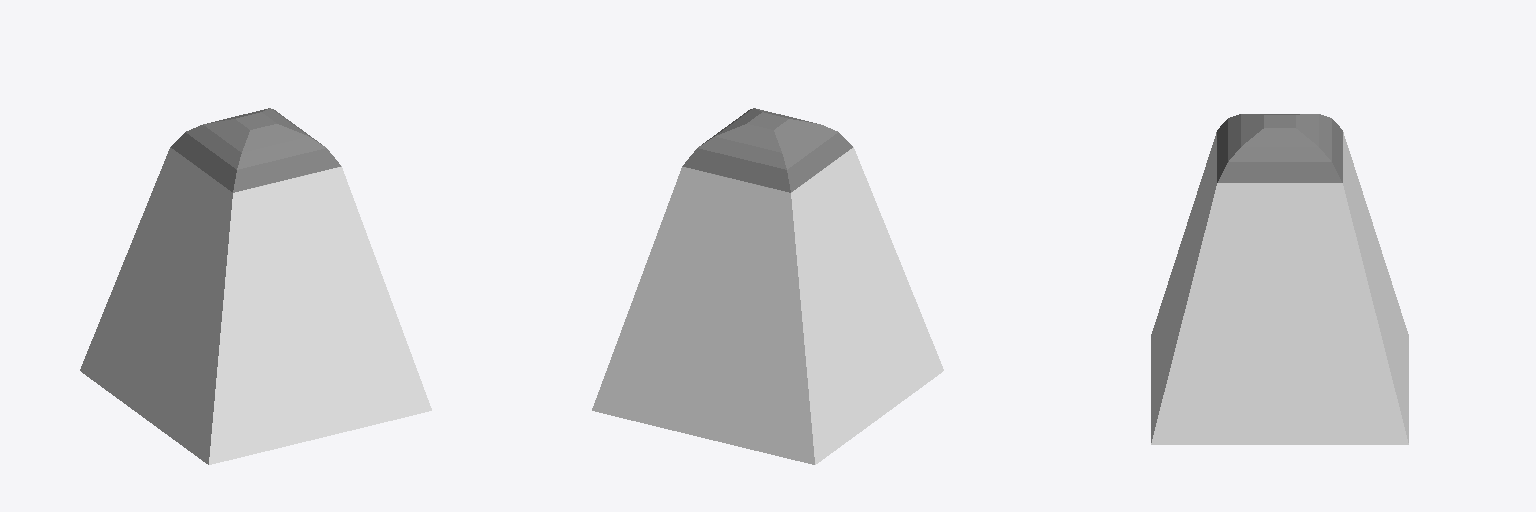
File: Salt.obj
The picture shows the model from 3 angles: view 1: azimuth 30°, elevation 25°; view 2: azimuth 150°, elevation 25°; view 3: azimuth 270°, elevation 25°; orthographic projection.
Parts seen in each view (by area): view 1: Salt; view 2: Salt; view 3: Salt.
Boxes of the visible parts, <box> form: Salt: <box>80,108,431,464</box>; Salt: <box>592,108,943,464</box>; Salt: <box>1151,114,1408,444</box>.
Size of the model in its own units: 0.2 by 0.2304 by 0.2.